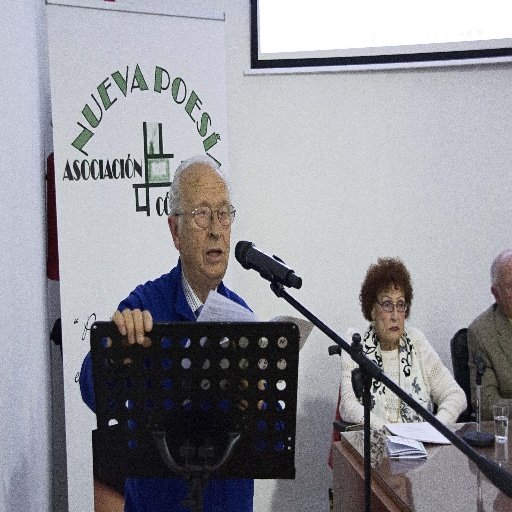hand: (118, 311, 156, 359), (232, 373, 265, 415)
